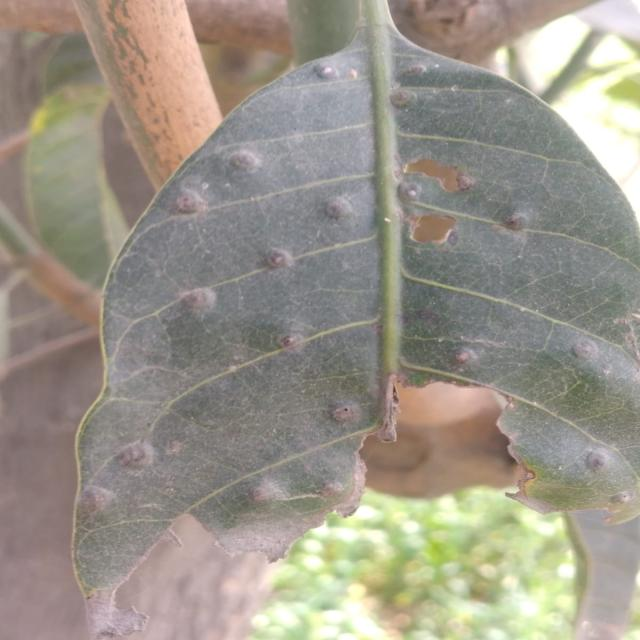Anthracnose: (403, 154, 476, 184), (402, 214, 460, 247)
Bacterial Cancer: (173, 494, 339, 572), (491, 415, 602, 521)
gall midge: (210, 147, 385, 287), (162, 279, 327, 363), (94, 430, 198, 485)
